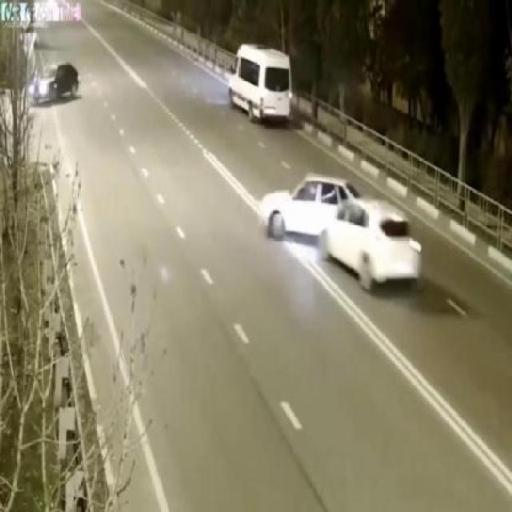小汽车: (219, 48, 294, 124), (29, 60, 80, 106)
小汽车撞小汽车: (260, 171, 418, 295)
